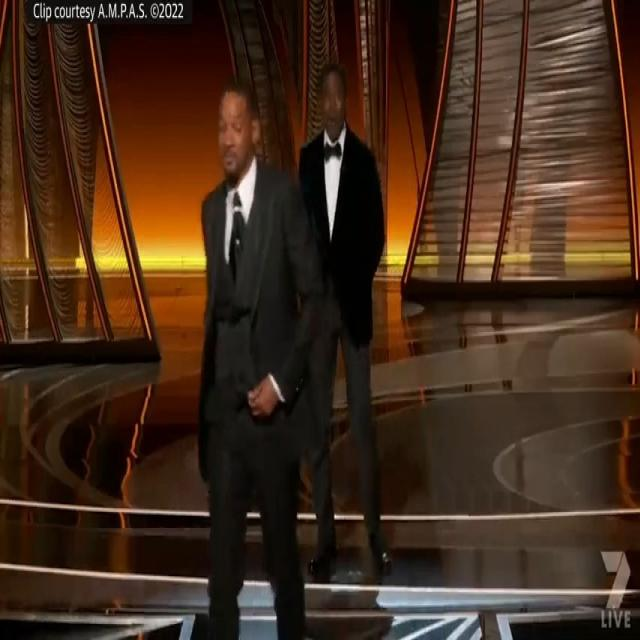non-fight: (176, 46, 406, 638)
